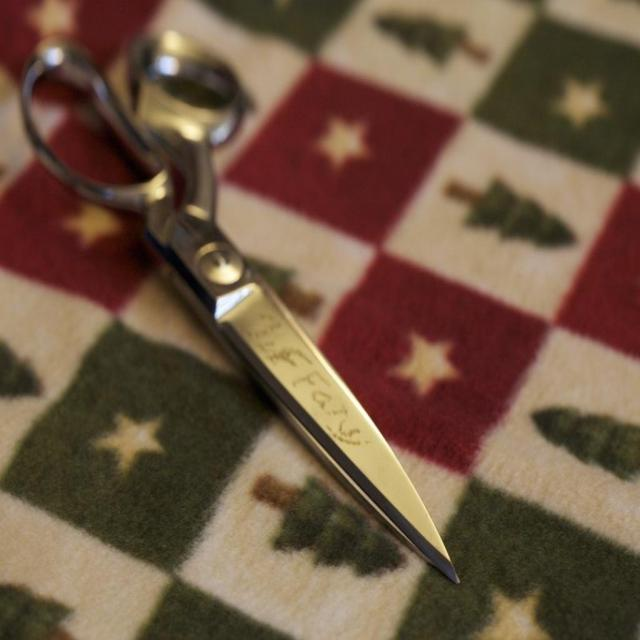scissor: (17, 19, 465, 590)
